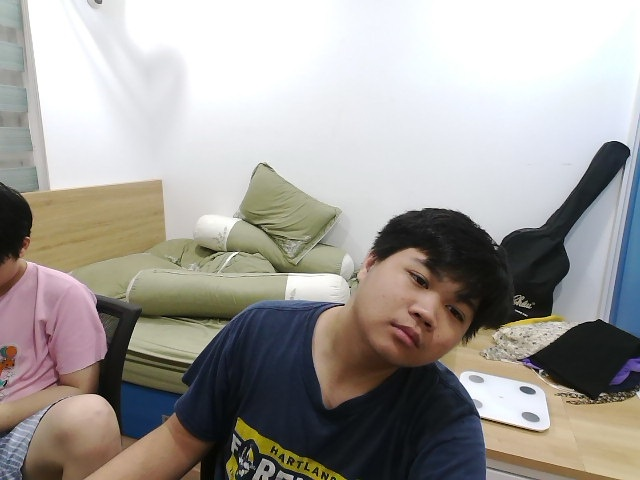face: (355, 207, 503, 365)
